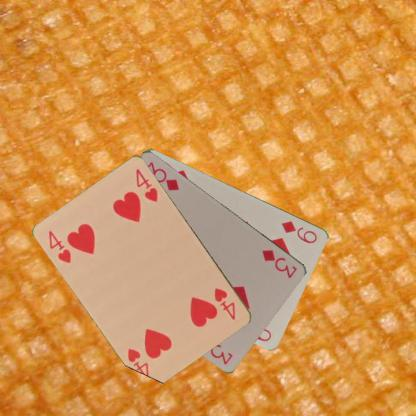3d: (259, 246, 299, 280)
4h: (46, 228, 73, 264), (212, 285, 238, 322)
9d: (278, 218, 319, 245)
